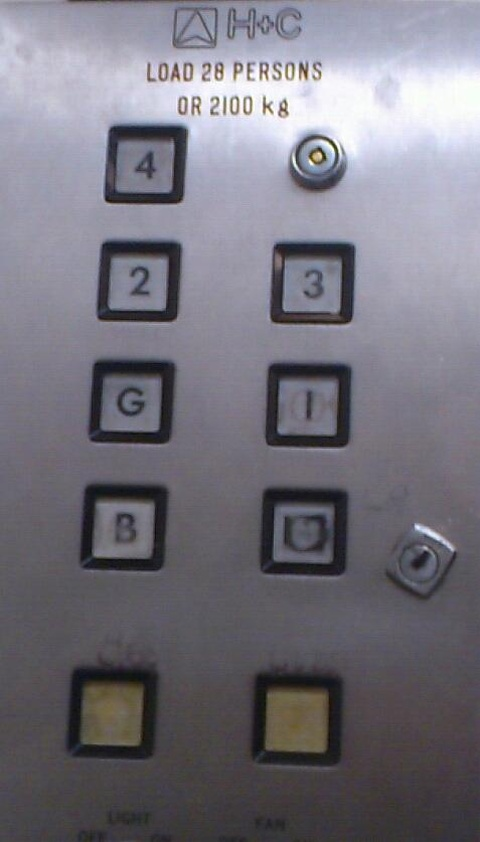1: (262, 360, 354, 451)
2: (94, 236, 186, 327)
3: (270, 239, 358, 327)
4: (102, 120, 190, 208)
B: (77, 481, 173, 576)
G: (86, 358, 176, 444)
blur: (258, 483, 348, 580)
empty: (252, 670, 344, 772), (64, 666, 159, 762)
keyhole: (381, 521, 459, 603), (287, 131, 354, 195)
